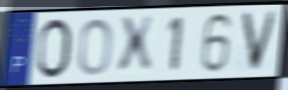1: (166, 15, 185, 73)
6: (198, 11, 235, 76)
O: (34, 17, 73, 81), (77, 17, 115, 78)
V: (239, 9, 281, 73)
X: (116, 13, 156, 78)
